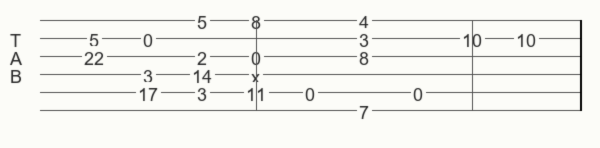0: (143, 30, 157, 47), (251, 48, 265, 65), (305, 84, 319, 101), (413, 84, 427, 101)
10: (462, 30, 486, 47), (516, 30, 540, 47)
11: (246, 84, 270, 101)
14: (192, 66, 216, 83)
17: (138, 84, 162, 101)
2: (197, 48, 211, 65)
22: (84, 48, 108, 65)
3: (143, 66, 157, 83), (197, 84, 211, 101), (359, 30, 373, 47)
4: (359, 12, 373, 29)
5: (89, 30, 103, 47), (197, 12, 211, 29)
7: (359, 102, 373, 119)
8: (251, 12, 265, 29), (359, 48, 373, 65)
x: (251, 67, 264, 81)
